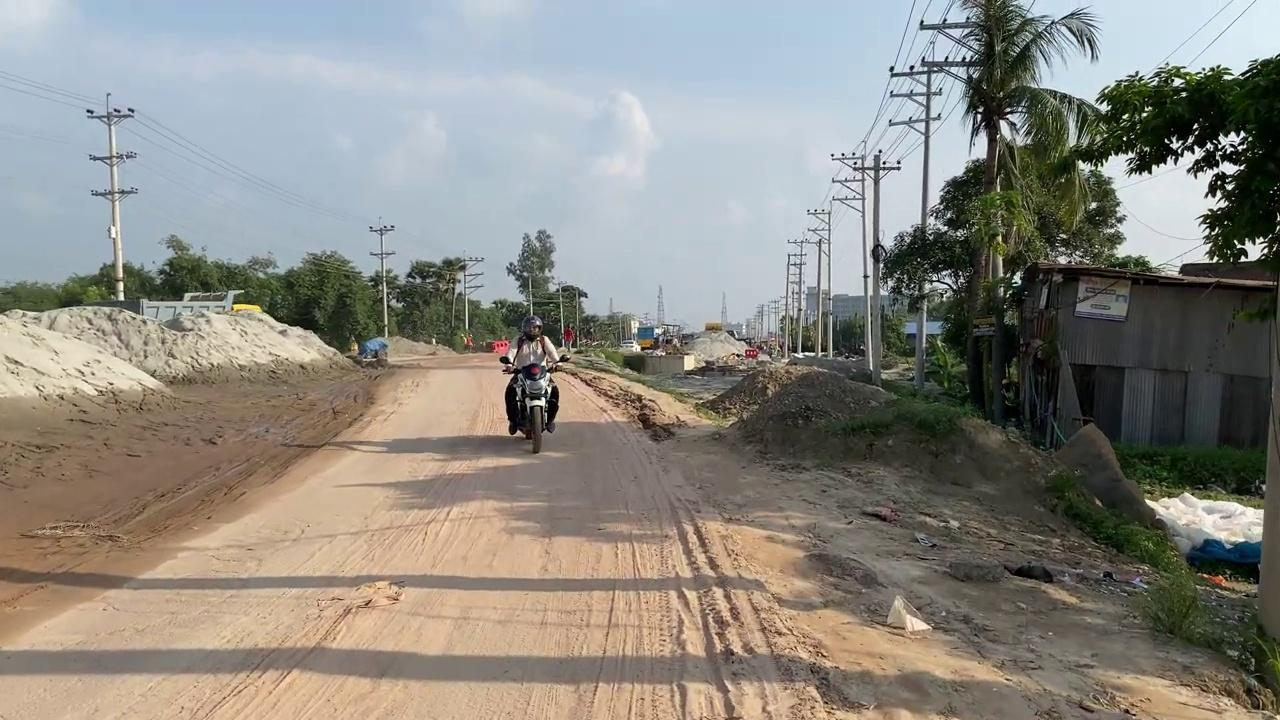Motorcycle: (498, 353, 571, 454)
Muddy road: (1, 349, 1271, 718)
Obstacle: (621, 350, 695, 375)
Pole: (85, 92, 138, 300)
Traffic-sign: (911, 0, 1103, 422), (505, 228, 555, 317)
Tree: (81, 289, 263, 322), (182, 289, 263, 313), (635, 323, 683, 352)
Upstairs: (1017, 260, 1276, 454)
